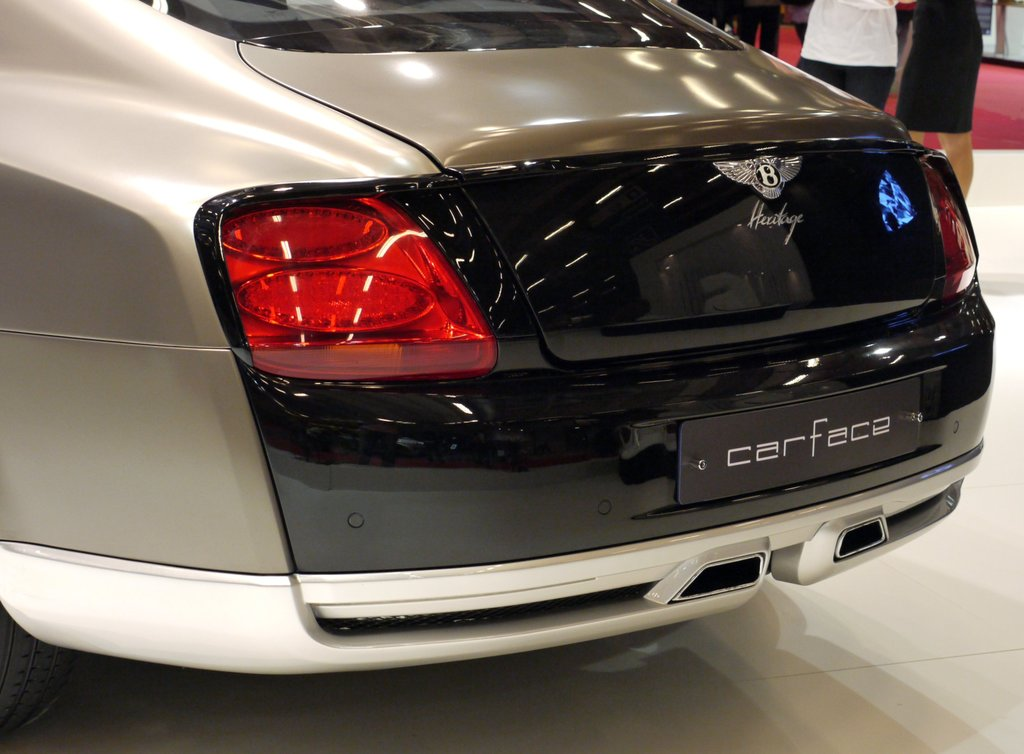Person: (677, 0, 982, 200)
